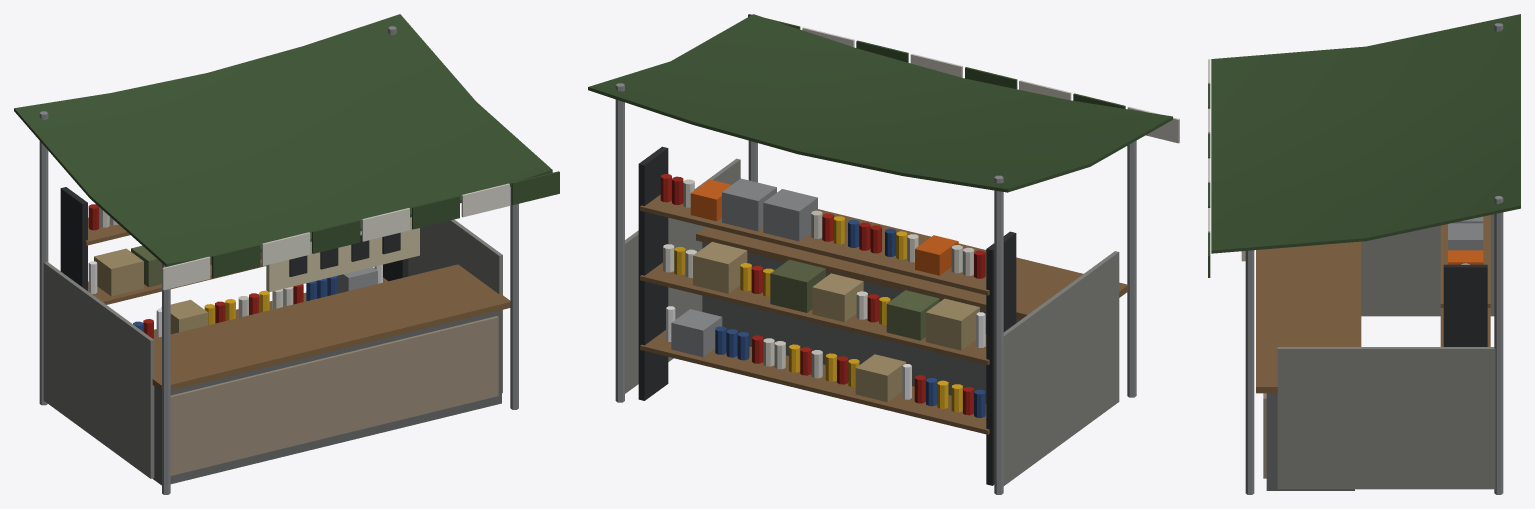
The model's file is vendor-stall-green.glb.
3 renders of one model, left to right at view 1: azimuth 30°, elevation 25°; view 2: azimuth 150°, elevation 25°; view 3: azimuth 270°, elevation 25°, orthographic. The views are drawn at different scales.
Parts seen in each view (by area): view 1: Piece_lod0; view 2: Piece_lod0; view 3: Piece_lod0.
Part boxes in pixels (x1,y1,x2,y2): Piece_lod0: (14,14,559,494); Piece_lod0: (588,14,1179,494); Piece_lod0: (1208,14,1520,494).
Size of what is drawn, in the model's own units: 4.21 by 2.97 by 2.83.
